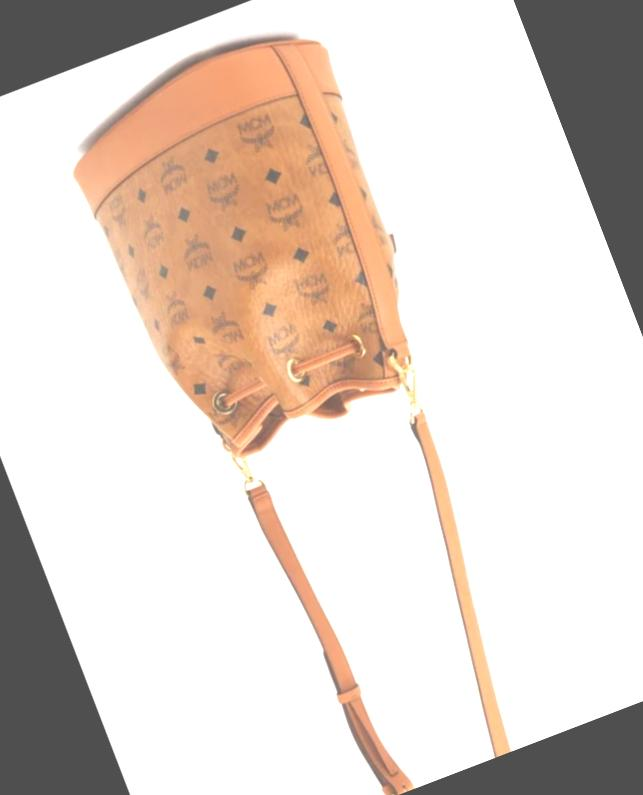MCM: (79, 92, 439, 470)
